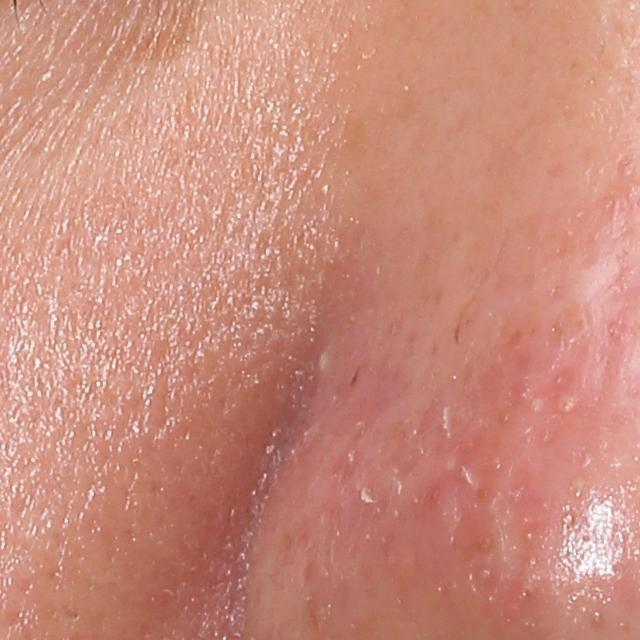atrophic_scar: (449, 424, 498, 564), (585, 285, 639, 399)
hypertrophic_scar: (568, 254, 627, 326)
pustule: (308, 327, 344, 395)
